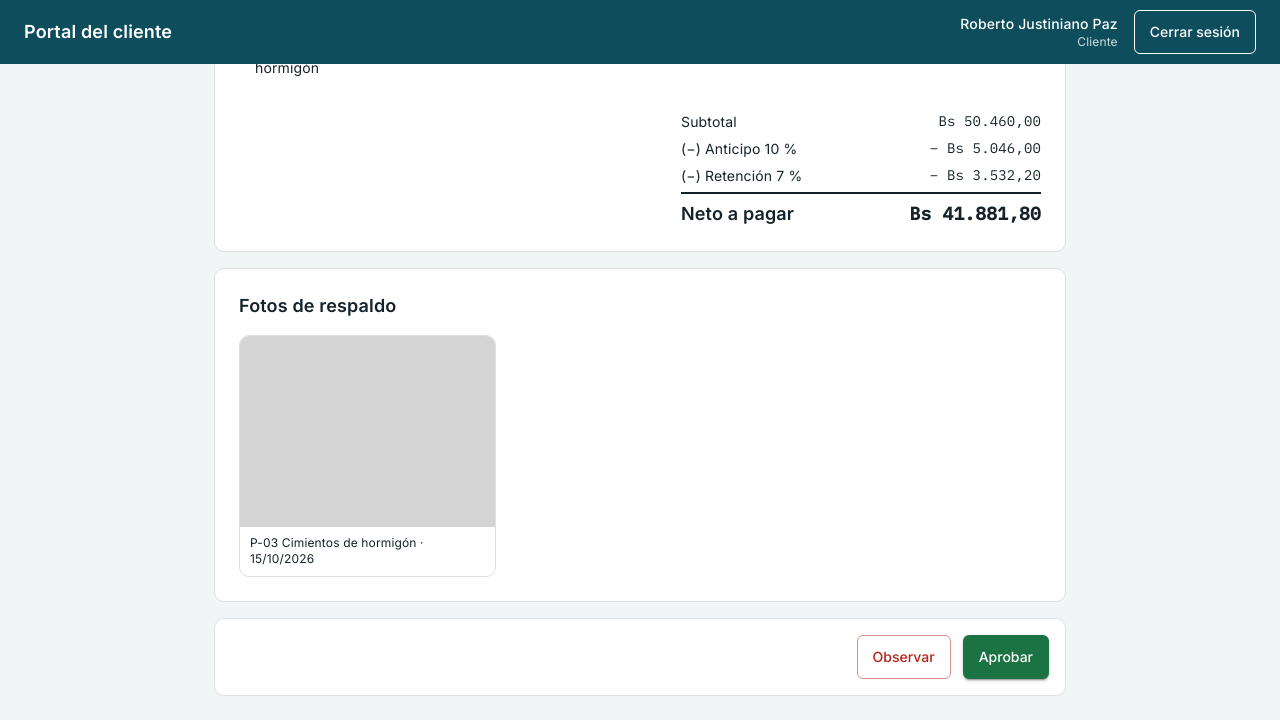
Test case: Aprobar (criterios 5 y 6) › muestra «En aprobación…», consulta cada 2 s y termina APROBADA con el número de cobro
(page scrolled)
Click the button "Aprobar" at [1006, 657], box x1=963 y1=635 x2=1049 y2=679
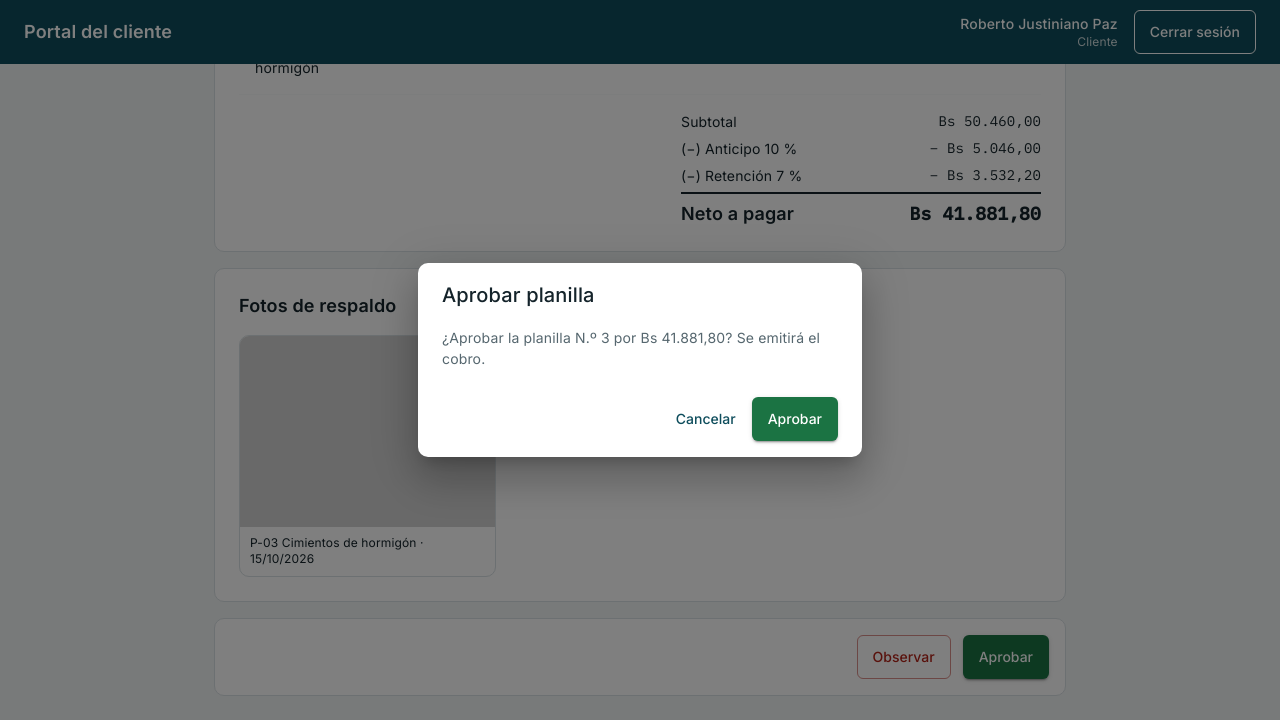
Expected: the text "¿Aprobar la planilla N.º 3 por Bs 41.881,80? Se emitirá el cobro." is shown, x1=442 y1=327 x2=838 y2=369
Click the button "Aprobar" at [795, 419], box x1=752 y1=397 x2=838 y2=441
Wait 14000 ms
(page scrolled)
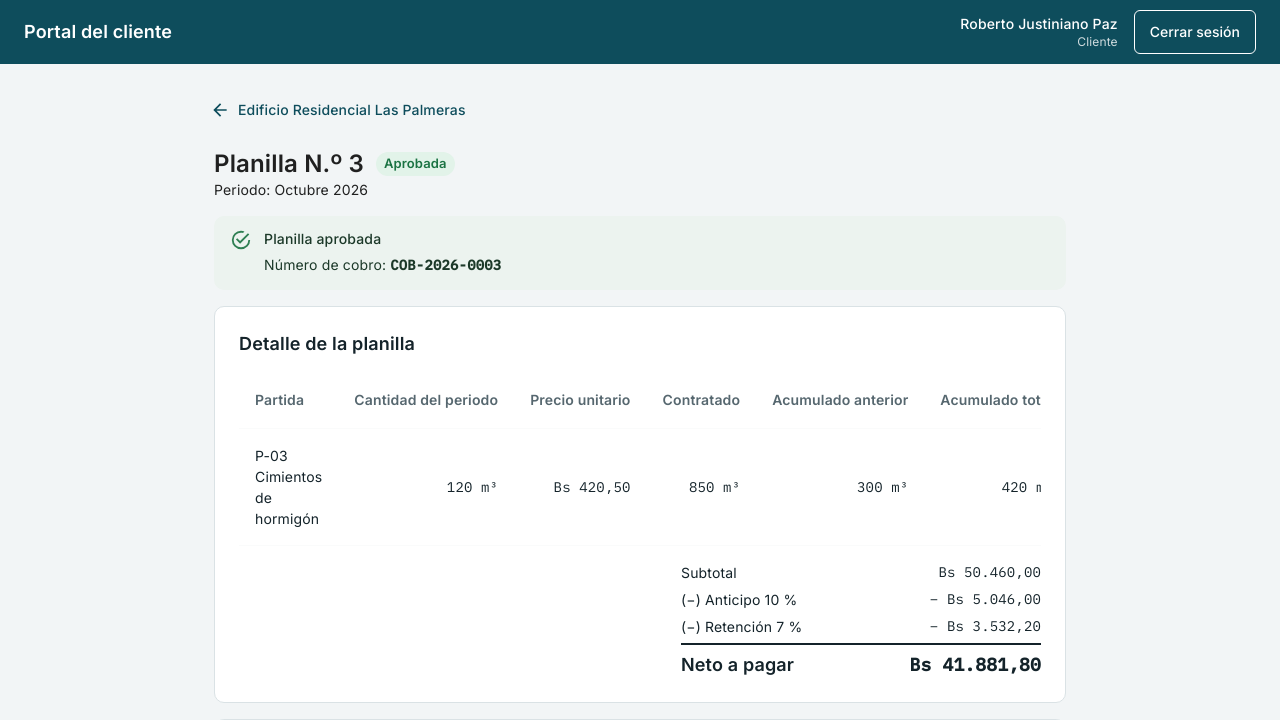
Expected: the dialog is gone
Expected: the button "Aprobar" is gone
Expected: the button "Observar" is gone
